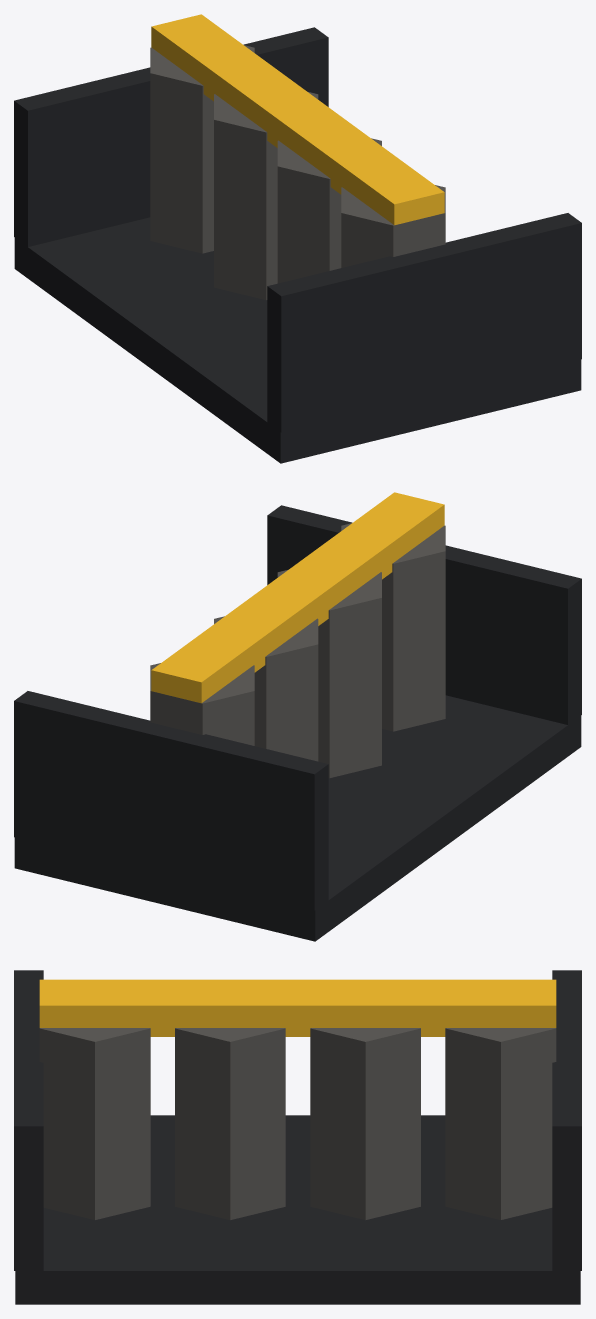
The model's file is industrial_cells.glb.
3 renders of one model, top to bottom at view 1: azimuth 30°, elevation 25°; view 2: azimuth 150°, elevation 25°; view 3: azimuth 270°, elevation 25°, orthographic. The views are drawn at different scales.
Size of the model in its own units: 0.3 by 0.21 by 0.462.
